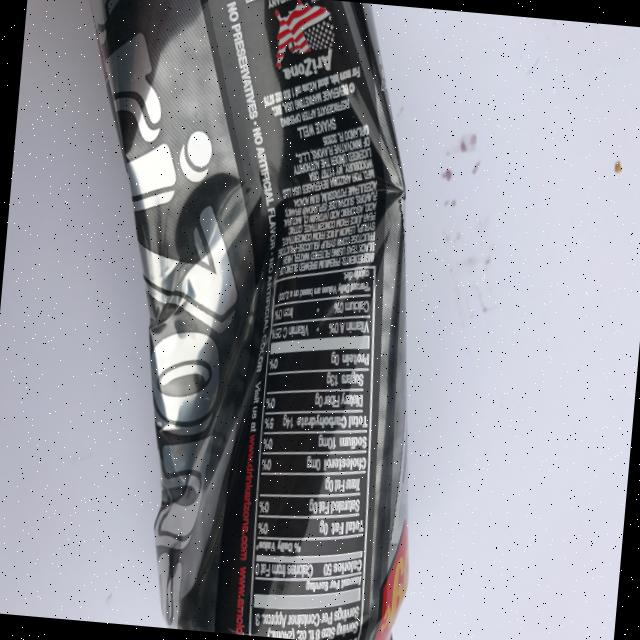metal: (29, 0, 458, 640)
